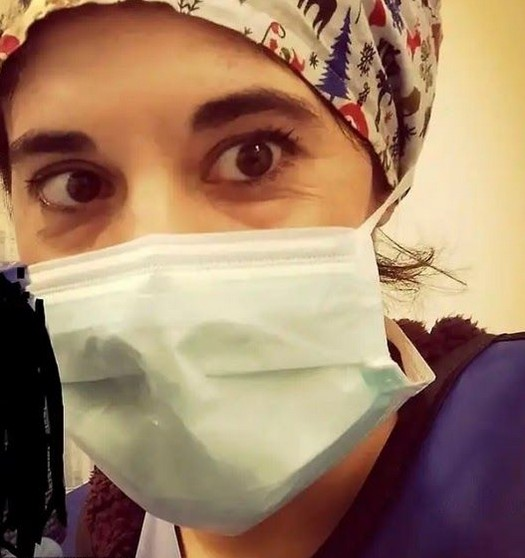face_with_mask: (0, 3, 448, 541)
